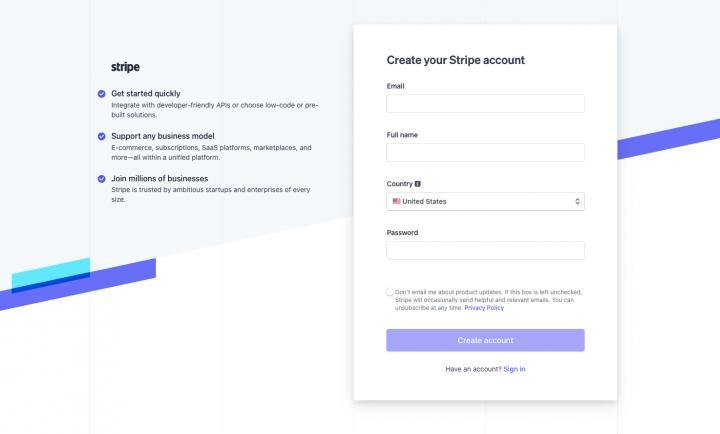button: (387, 329, 587, 353)
checkbox: (98, 89, 108, 100), (98, 132, 108, 143), (98, 175, 108, 185), (387, 289, 395, 297)
dropdown: (387, 193, 586, 212)
input: (386, 94, 587, 115), (387, 143, 586, 163), (388, 242, 587, 261)
label: (396, 290, 586, 312), (386, 55, 526, 68), (112, 133, 217, 142), (112, 175, 210, 184), (112, 90, 182, 101), (445, 366, 527, 375), (387, 229, 419, 238), (386, 132, 419, 140), (386, 181, 415, 189), (387, 84, 406, 91)
